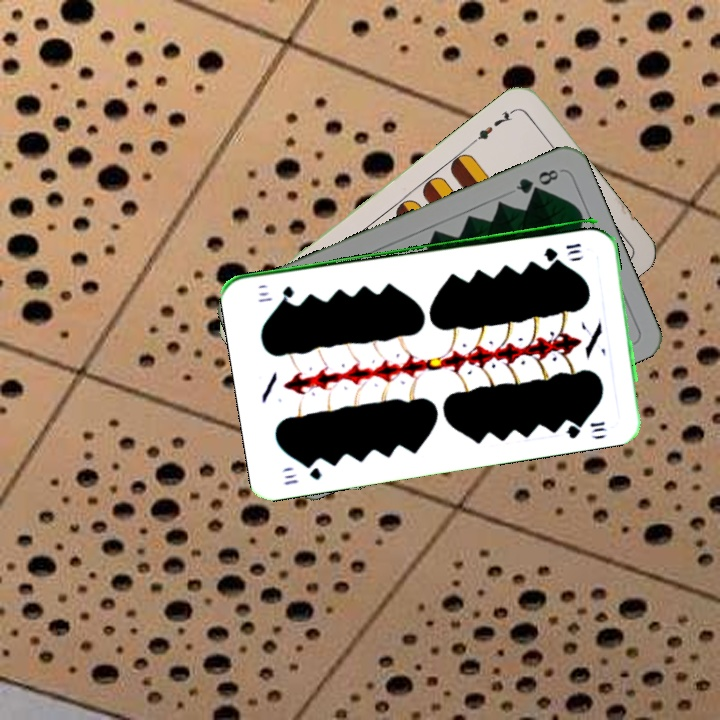E7: (468, 104, 518, 146)
G10: (280, 458, 325, 488), (539, 239, 584, 260)
G8: (511, 165, 561, 197)
